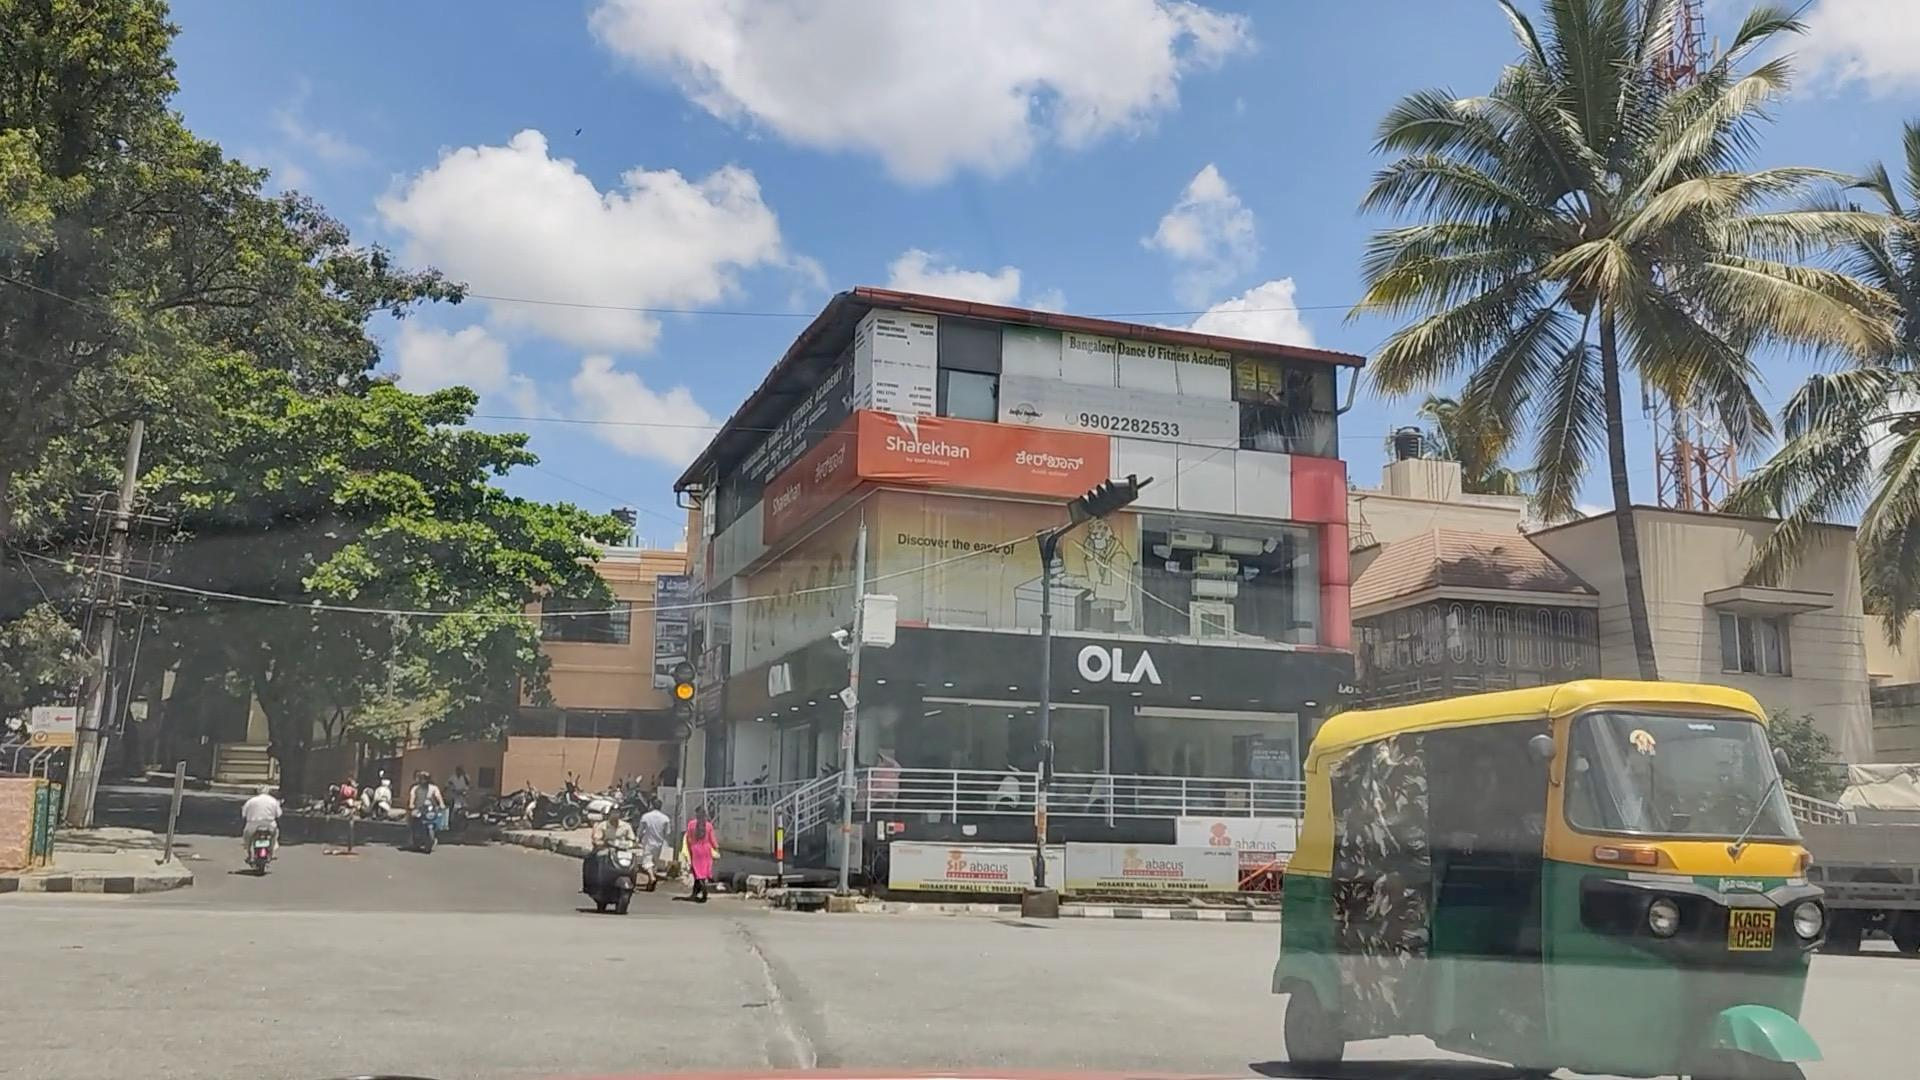RoadDamages: (1294, 703, 1791, 1080), (696, 886, 835, 1080)
